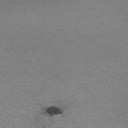iron sheet ash: (44, 106, 62, 116)
